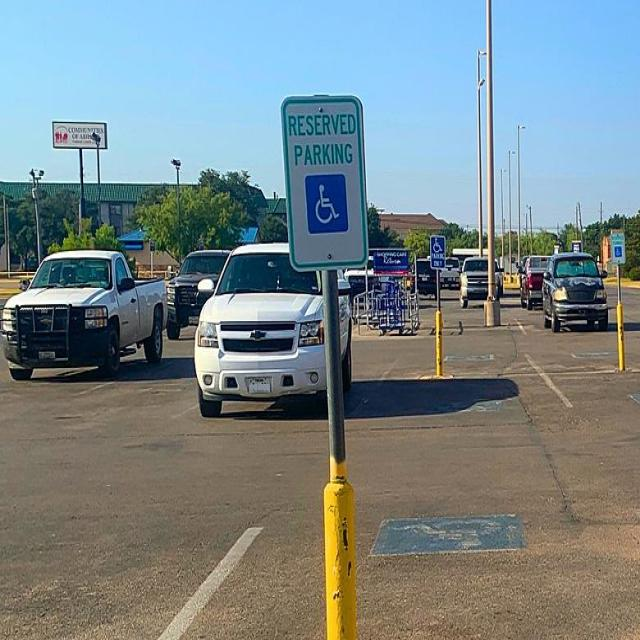car-handicap-placard: (311, 180, 344, 228), (432, 234, 446, 254), (613, 242, 624, 262)
